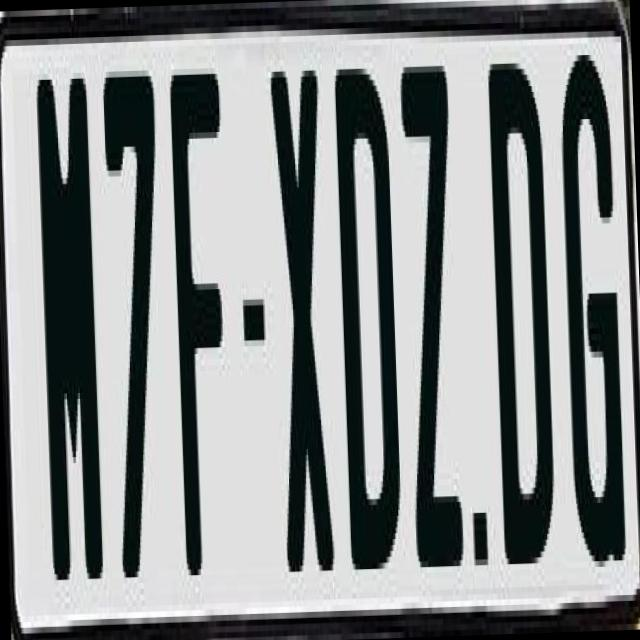7: (98, 58, 170, 572)
D: (484, 50, 557, 588), (332, 49, 406, 576)
F: (167, 56, 234, 563)
G: (558, 48, 628, 596)
M: (31, 60, 104, 598)
X: (265, 52, 333, 560)
Z: (398, 65, 470, 602)
